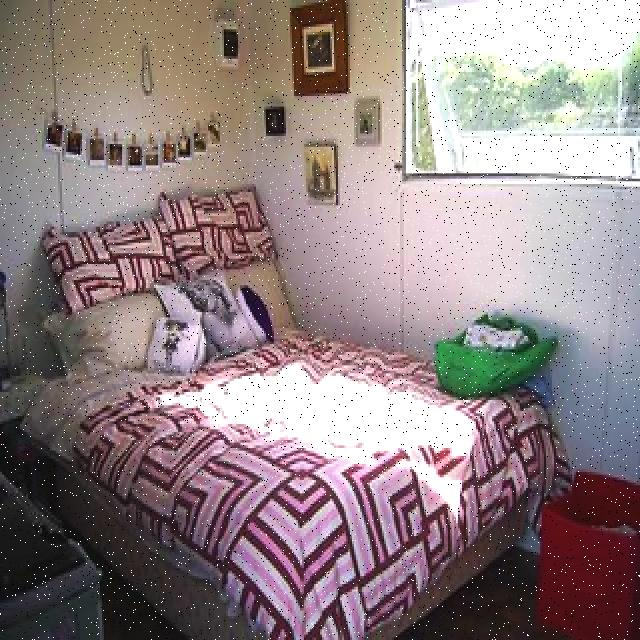bed: (35, 181, 561, 638)
